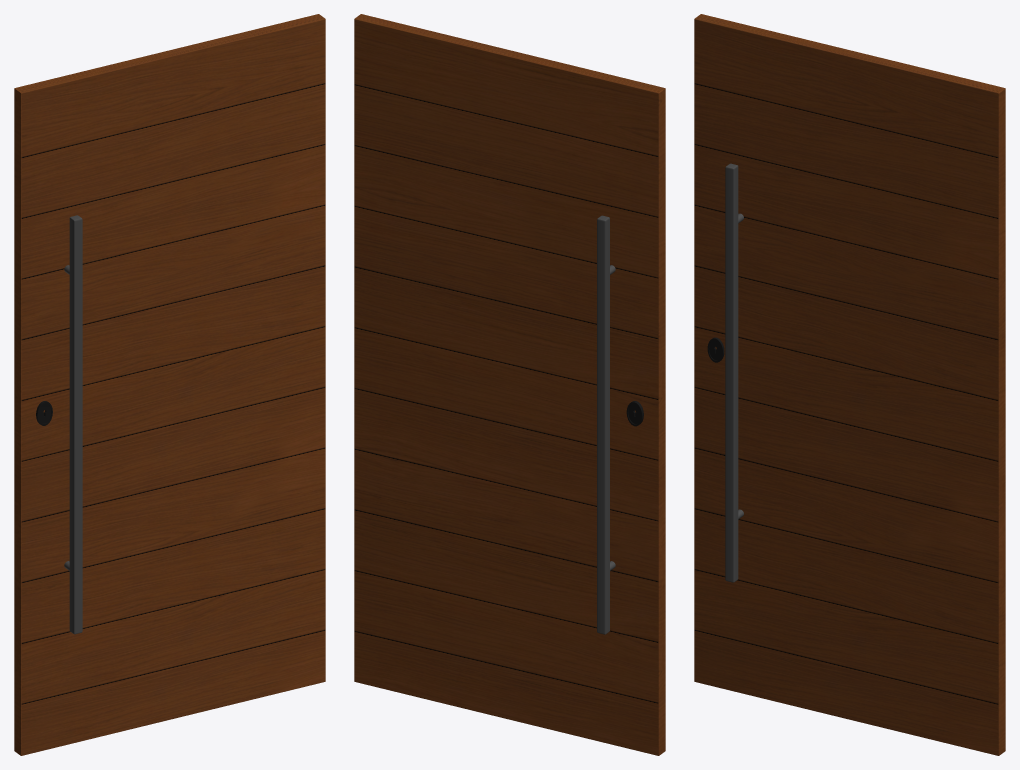
The picture shows the model from 3 angles, left to right: view 1: azimuth 30°, elevation 25°; view 2: azimuth 150°, elevation 25°; view 3: azimuth 330°, elevation 25°; orthographic projection.
Parts seen in each view (by area): view 1: pCube41, pCube44; view 2: pCube41, pCube44; view 3: pCube41, pCube44.
Boxes of the visible parts, left/top/right/bottom form: pCube41: left=14, top=14, right=325, bottom=755; pCube44: left=64, top=215, right=82, bottom=634; pCube41: left=354, top=14, right=665, bottom=755; pCube44: left=597, top=215, right=615, bottom=634; pCube41: left=694, top=14, right=1005, bottom=755; pCube44: left=725, top=163, right=743, bottom=582.
Size of the model in its own units: 1.77 by 3.68 by 0.2995.
Materials: 3 (1 with a texture image).
